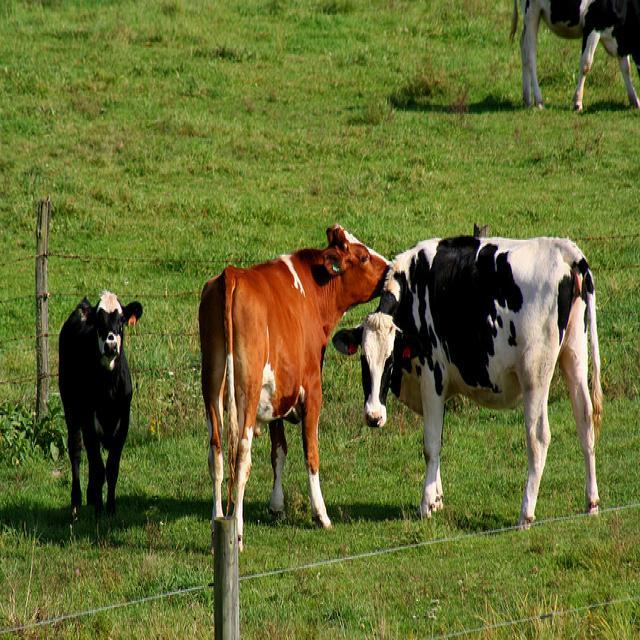cow: (331, 231, 602, 529), (196, 224, 390, 555), (53, 288, 146, 525), (504, 0, 639, 111)
